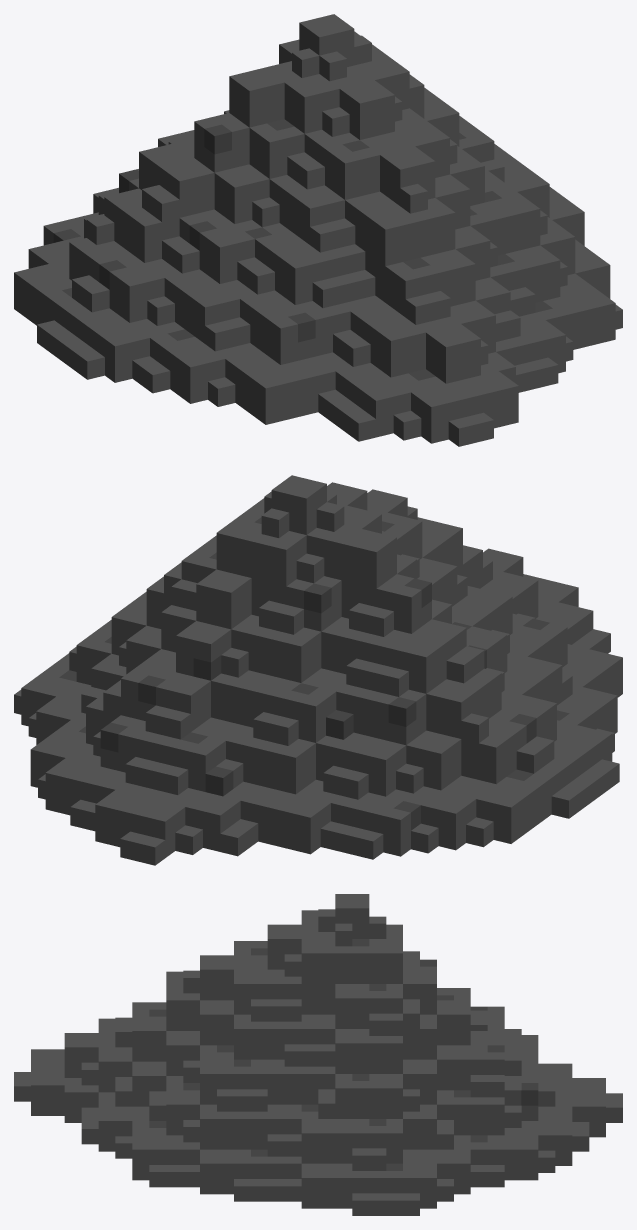
Rendered from pebble.obj.
3 renders of one model, top to bottom at view 1: azimuth 30°, elevation 25°; view 2: azimuth 150°, elevation 25°; view 3: azimuth 270°, elevation 25°, orthographic. The views are drawn at different scales.
Bounding box in the file's own units: 3 × 1.4 × 3.6.
Materials: 1 (1 with a texture image).
